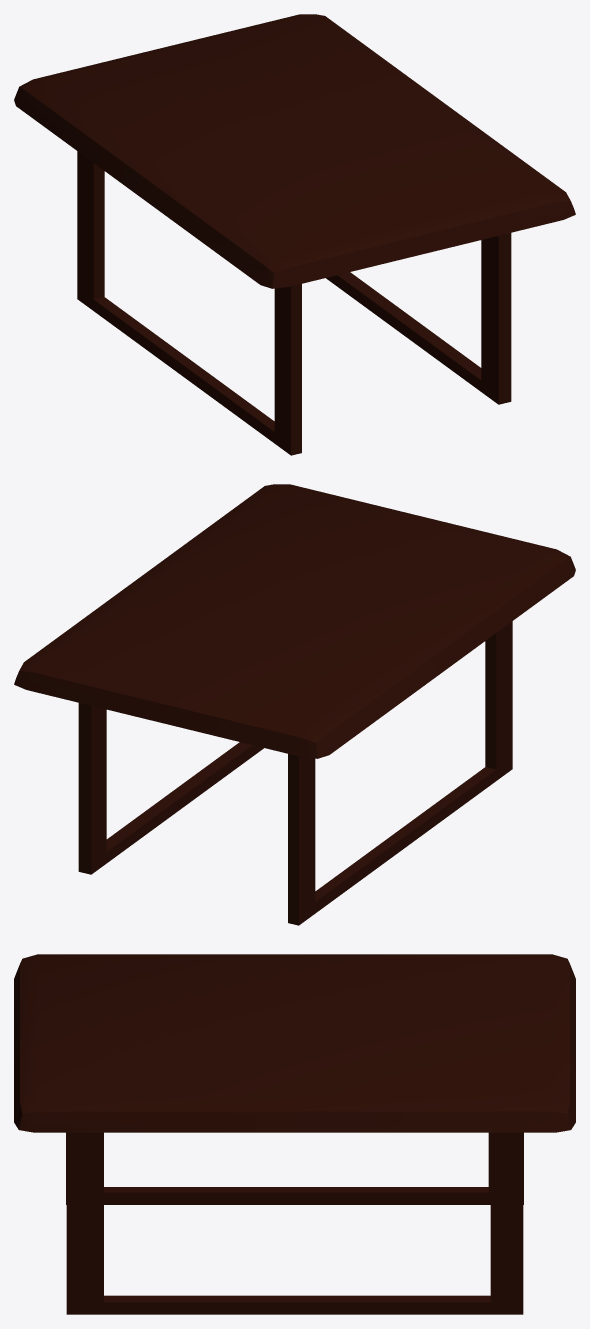
The model's file is Table1.fbx.
3 views of the same model, one above another, from view 1: azimuth 30°, elevation 25°; view 2: azimuth 150°, elevation 25°; view 3: azimuth 270°, elevation 25° (orthographic). The views are drawn at different scales.
Parts seen in each view (by area): view 1: Box160; view 2: Box160; view 3: Box160.
Boxes of the visible parts, x1,y1,x2,y2 form: Box160: (14, 14, 575, 455); Box160: (14, 484, 575, 925); Box160: (14, 954, 575, 1314).
Bounding box in the file's own units: 53.25 × 34.88 × 77.24.
